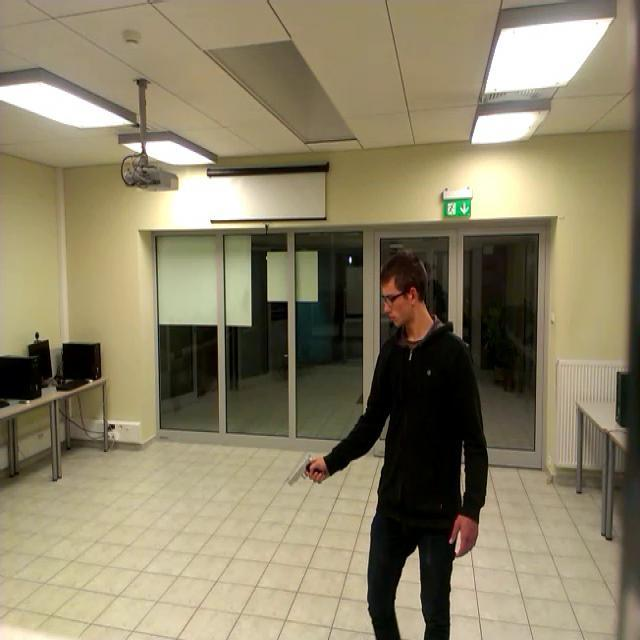Gun: (286, 454, 322, 484)
